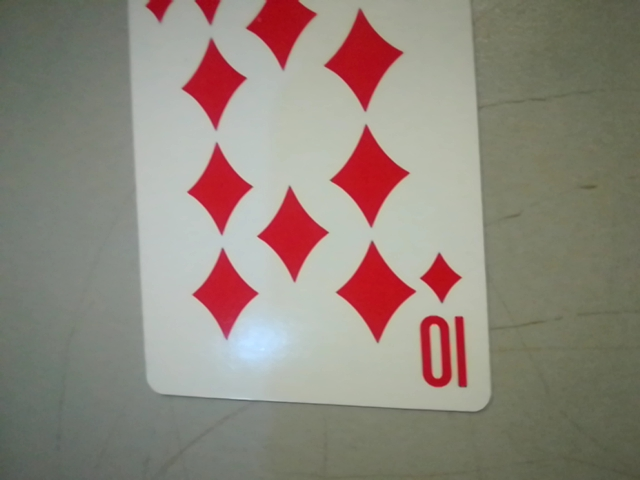fk 10: (407, 244, 484, 403)
